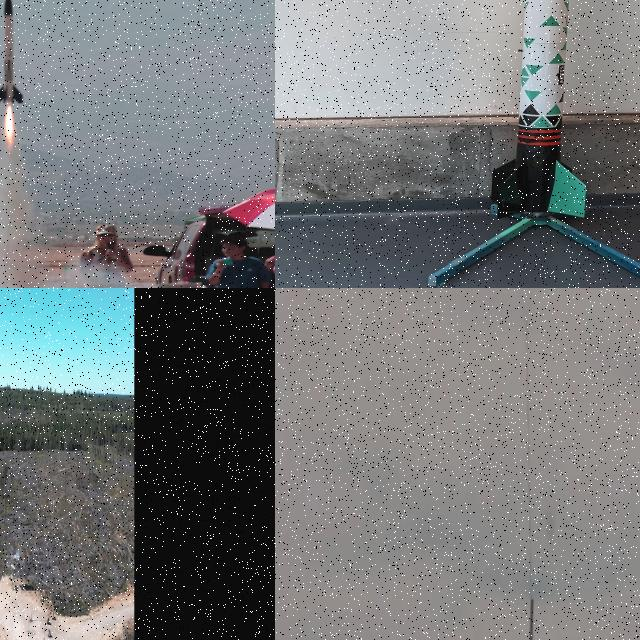Rocket: (491, 0, 586, 220), (0, 0, 24, 106), (530, 597, 537, 640), (43, 625, 45, 640), (31, 612, 32, 620)
